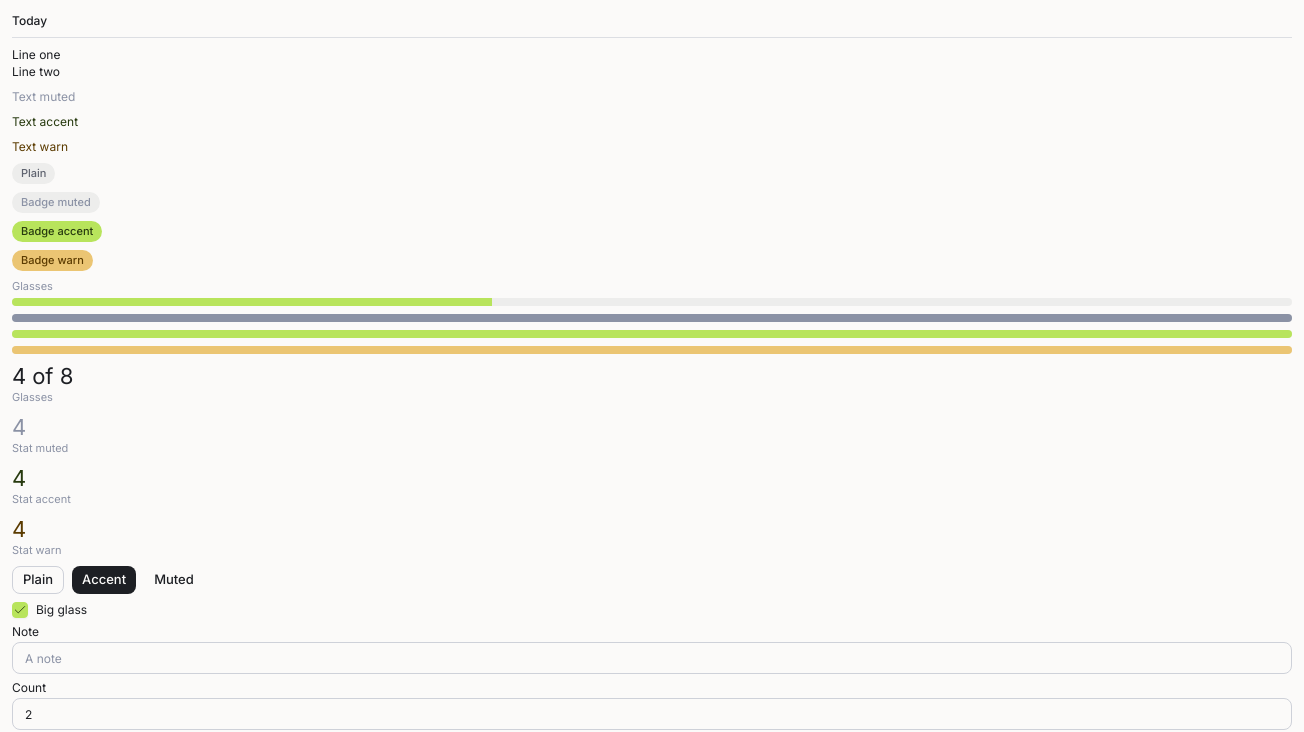
ModTree: fields › a number is clamped to its min and max, and a non-number is dropped
Replace the text in the number field labelled "Count" with "40" at (652,714), box [12,698,1292,730]
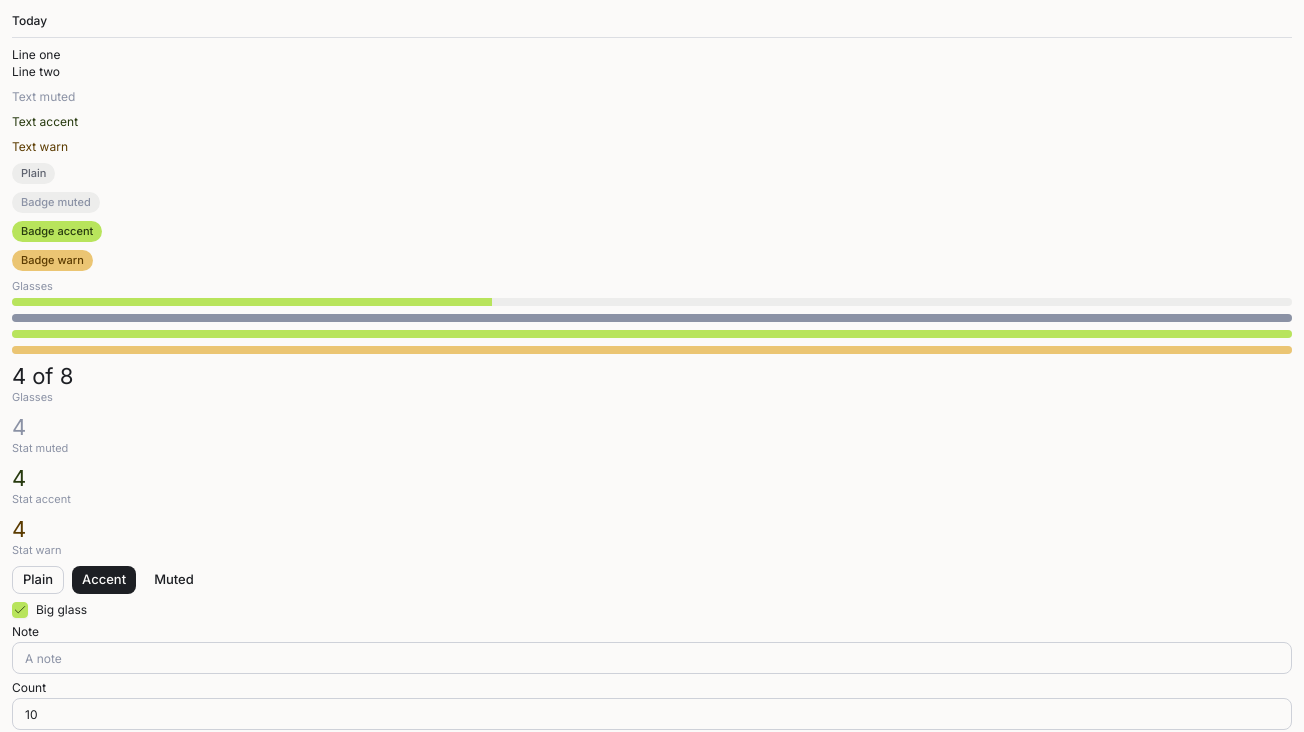
Clear the number field labelled "Count" at (652,714), box [12,698,1292,730]
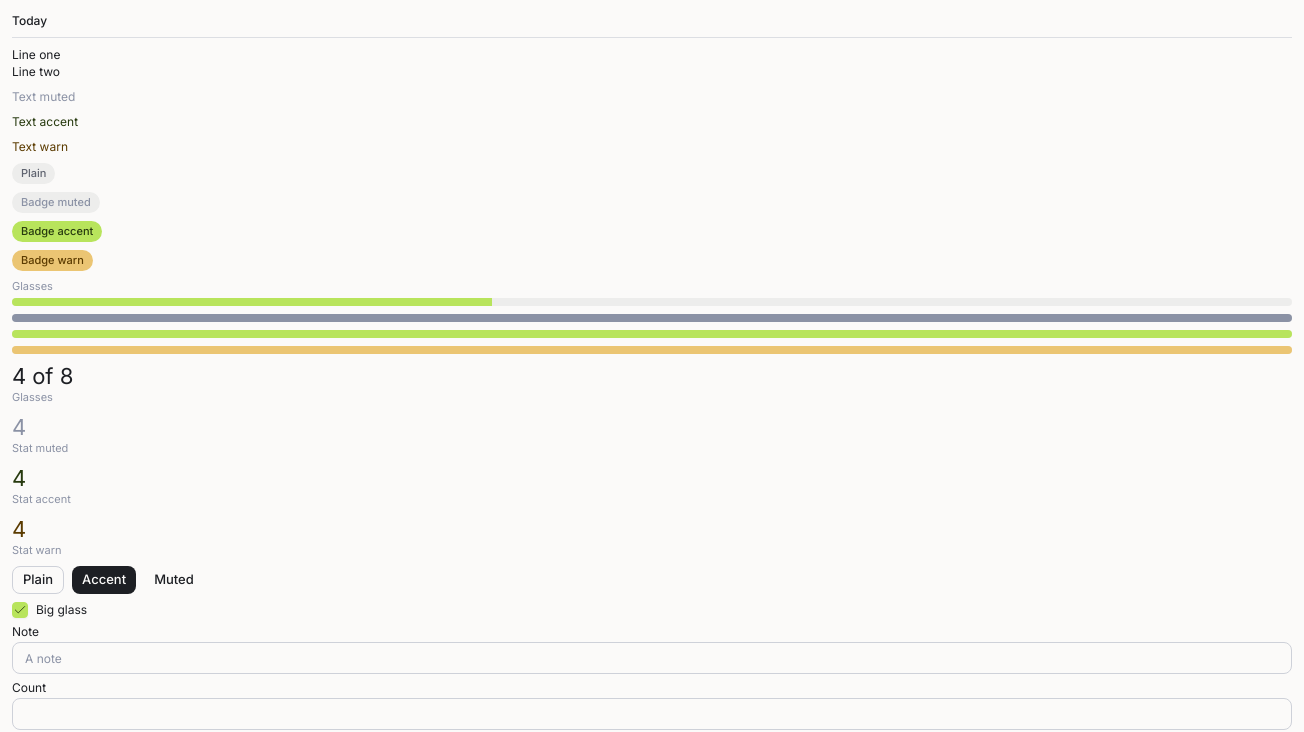
Leave the number field labelled "Count", box [12,698,1292,730]
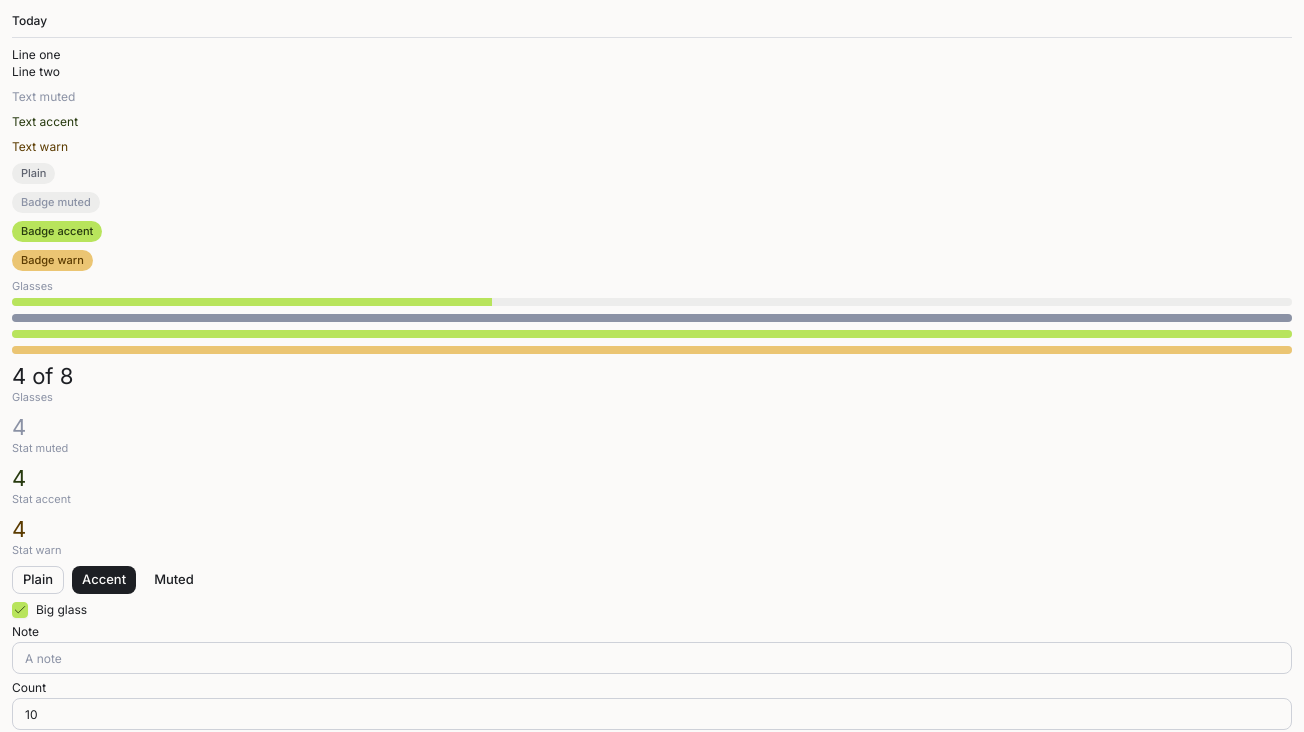
Now the number field labelled "Count" holds "10", box [12,698,1292,730]
